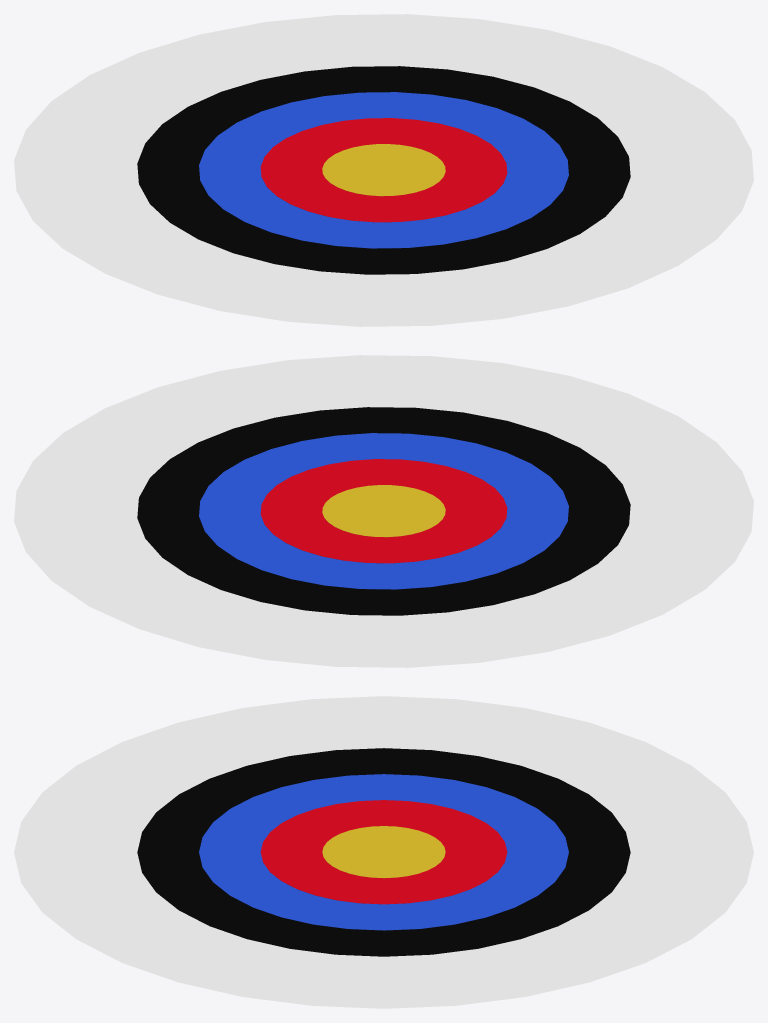
The model's file is payload.dae.
The picture shows the model from 3 angles, top to bottom: view 1: azimuth 30°, elevation 25°; view 2: azimuth 150°, elevation 25°; view 3: azimuth 270°, elevation 25°; orthographic projection.
Parts seen in each view (by area): view 1: Cylinder.004; view 2: Cylinder.004; view 3: Cylinder.004.
Part boxes in pixels (x1,y1,x2,y2): Cylinder.004: [14, 14, 753, 326]; Cylinder.004: [14, 355, 753, 667]; Cylinder.004: [14, 696, 753, 1008].
Size of the model in its own units: 3 by 3 by 0.004.
